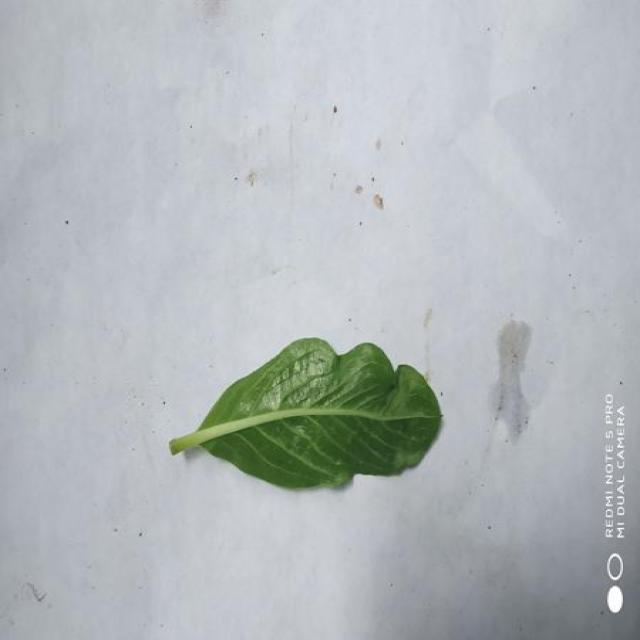catharanthus: (168, 339, 442, 489)
